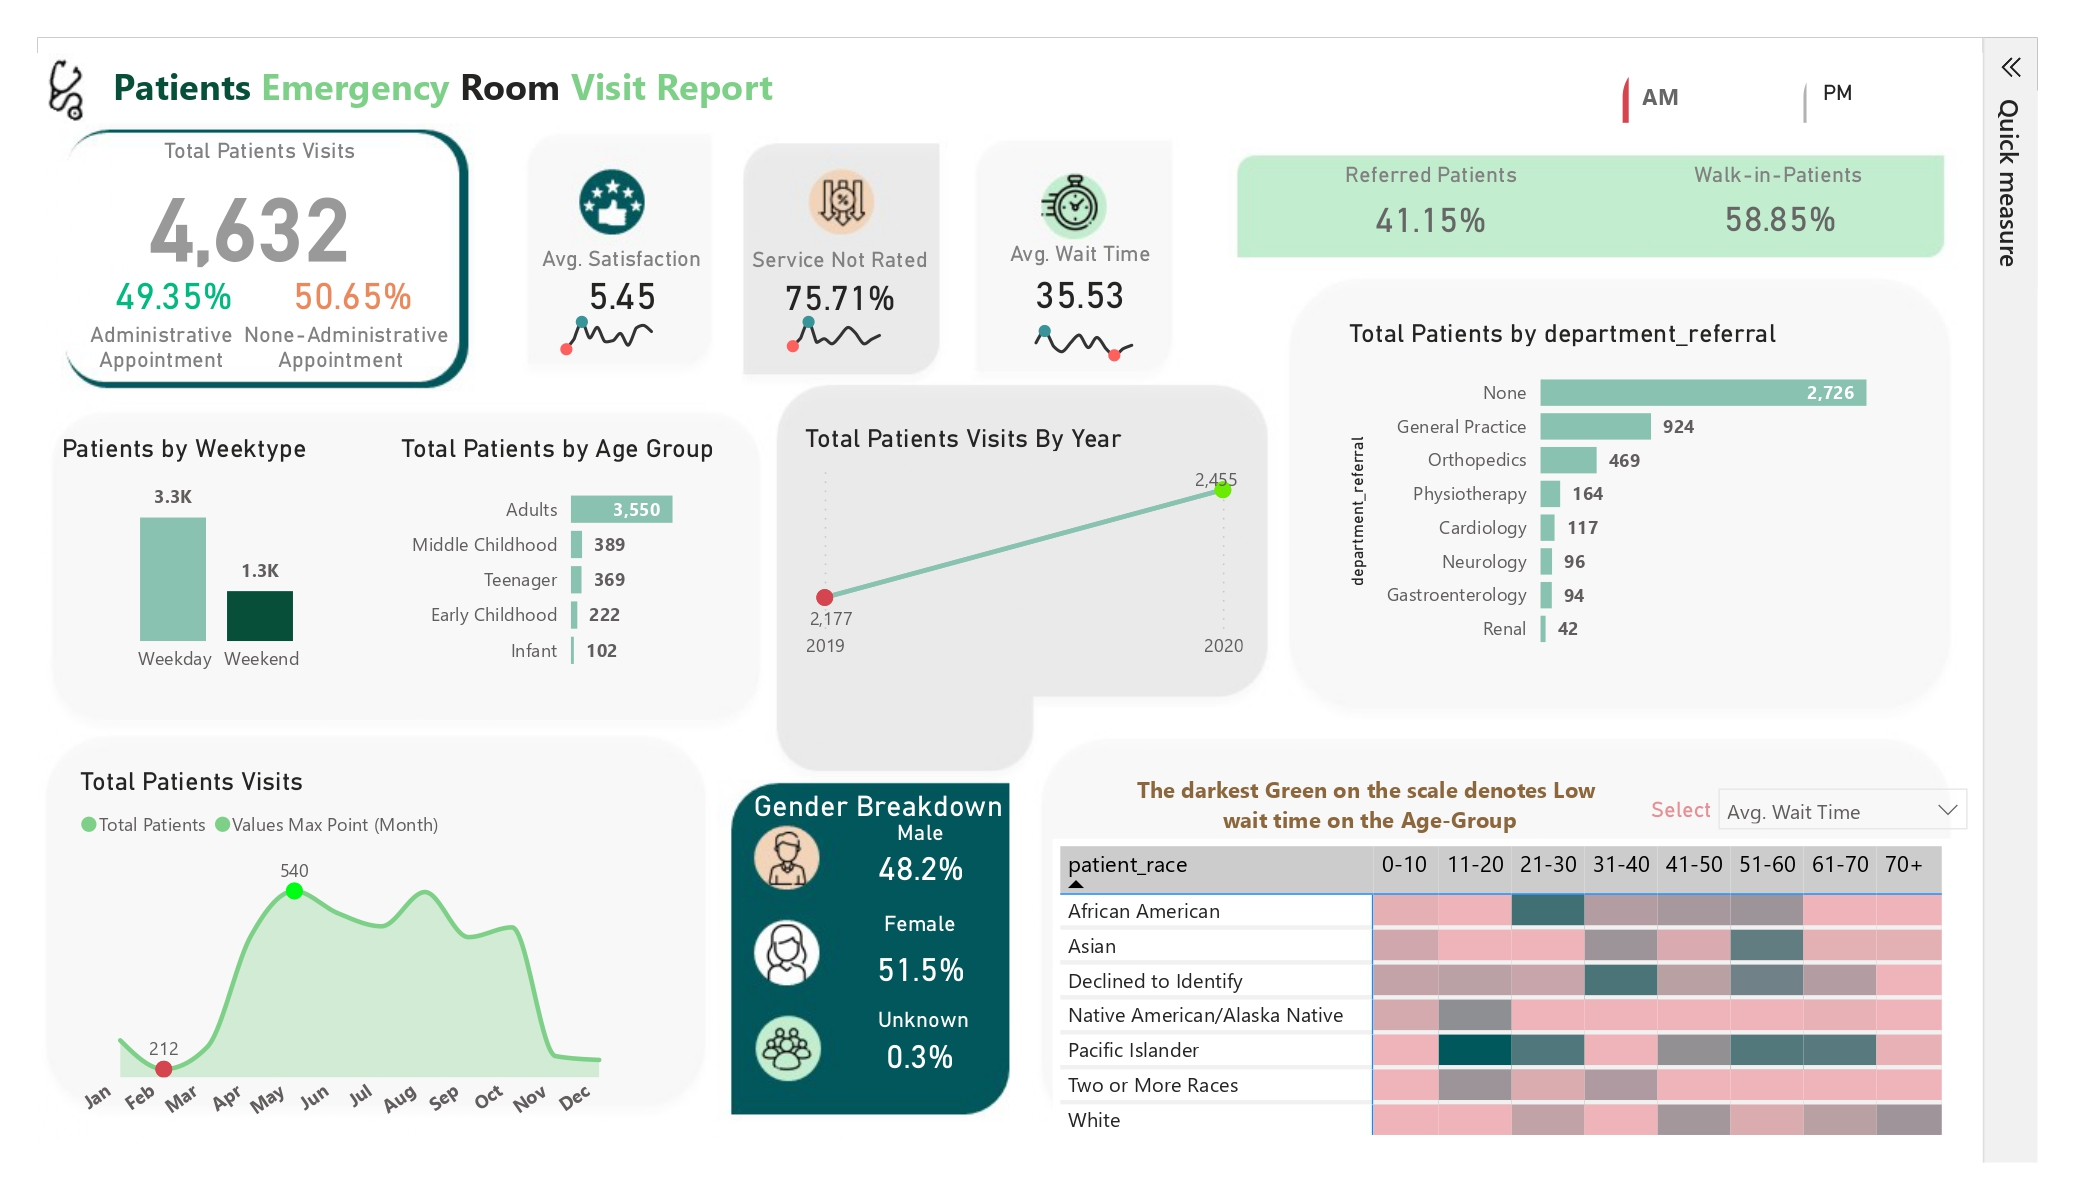

Layout of this report page (visuals, bound fields, positions):
{"tool":"powerbi","page":{"name":"Page 1","canvas":[1280,720],"ordinal":0},"visuals":[{"type":"card","fields":{"Values":["Calculation.Total Patients"]},"box":[44.9,71.5,189.6,74.8],"z":0},{"type":"card","fields":{"Values":["Calculation.% Administrative Schedule"]},"box":[41.4,143.4,96.2,31.8],"z":1000},{"type":"card","fields":{"Values":["Calculation.% None - Administrative Schedule"]},"box":[156.3,143,101.4,31.6],"z":2000},{"type":"pivotTable","fields":{"Values":["Calculation.Average Wait Time"],"Rows":["Patients_Data.patient_race"],"Columns":["Patients_Data.Age Buckets"]},"box":[667.8,517.3,612.7,202.7],"z":3000},{"type":"slicer","fields":{"Values":["Parameter.Parameter"]},"box":[1095.7,474,184.8,43.2],"z":4000},{"type":"clusteredBarChart","fields":{"Category":["Patients_Data.Age Group"],"Y":["Calculation.Total Patients"]},"box":[233.9,250.2,219.4,166.5],"z":5000},{"type":"areaChart","title":"Total Patients Visits","fields":{"Category":["Date.Month"],"Y":["Calculation.Total Patients","Calculation.Values Max Point (Month)"]},"box":[23.3,468.9,362.5,251.1],"z":6000},{"type":"advancedSlicerVisual","fields":{"Values":["Patients_Data.Moment"]},"box":[1037.5,0,243,50.7],"z":7000},{"type":"lineChart","title":"Total Patients Visits By Year","fields":{"Category":["Date.Year"],"Y":["Calculation.Total Patients","Calculation.Values Max Point (Year)"]},"box":[500.5,242.5,297.4,165.5],"z":8000},{"type":"clusteredBarChart","fields":{"Y":["Calculation.Total Patients"],"Category":["Patients_Data.department_referral"]},"box":[858.5,174.2,386.9,228.1],"z":9000},{"type":"card","fields":{"Values":["Calculation.% Referred Patients"]},"box":[858.5,92.4,117.4,34.6],"z":10000},{"type":"card","fields":{"Values":["Calculation.% Un Referred Patients"]},"box":[1080.8,88.5,130.9,39.5],"z":11000},{"type":"card","fields":{"Values":["Calculation.Hitmap Caption"]},"box":[700.6,460.6,351.8,67.1],"z":12000},{"type":"textbox","box":[23.3,171.3,116.4,44.9],"z":13000},{"type":"textbox","box":[118.1,171.3,172.9,44.9],"z":14000},{"type":"card","title":"Avg. Satisfaction","fields":{"Values":["Calculation.Average Satisfaction Score"]},"box":[317.6,127,133.8,47.2],"z":15000},{"type":"card","title":"Avg. Wait Time","fields":{"Values":["Calculation.Average Wait Time"]},"box":[624.6,124.2,122.2,51],"z":16000},{"type":"card","title":"Service Not Rated","fields":{"Values":["Calculation.% No Rating"]},"box":[462.9,128,129.9,47.2],"z":17000},{"type":"textbox","box":[846,66.4,142.4,28.9],"z":18000},{"type":"textbox","box":[1046.1,66.4,199.2,31.8],"z":19000},{"type":"clusteredColumnChart","title":"Patients by Weektype","fields":{"Y":["Calculation.Total Patients"],"Category":["Date.Weektype"]},"box":[10.6,250.2,216.5,166.5],"z":20000},{"type":"card","fields":{"Values":["Calculation.% Female Visit"]},"box":[527.7,515.8,107.3,40.2],"z":21000},{"type":"card","fields":{"Values":["Calculation.% Male Visit"]},"box":[527.7,582.9,105.8,38.8],"z":22000},{"type":"card","fields":{"Values":["Calculation.% Unknown"]},"box":[532.2,645.5,96.9,29.8],"z":23000},{"type":"textbox","box":[23.1,50,245.4,32.7],"z":24000},{"type":"PBI_CV_25997FEB_F466_44FA_B562_AC4063283C4C","fields":{"measure":["Calculation.Average Satisfaction Score"],"axis":["Date.Month"]},"box":[330.1,159.8,96.2,46.2],"z":25000},{"type":"PBI_CV_25997FEB_F466_44FA_B562_AC4063283C4C","fields":{"measure":["Calculation.% No Rating"],"axis":["Date.Month"]},"box":[479.3,159.8,97.2,44.3],"z":26000},{"type":"PBI_CV_25997FEB_F466_44FA_B562_AC4063283C4C","fields":{"measure":["Calculation.Average Wait Time"],"axis":["Date.Month"]},"box":[639,166.5,103,43.3],"z":27000},{"type":"textbox","box":[439,478.9,229.5,33.3],"z":28000},{"type":"textbox","box":[537.1,498.8,88.1,33.3],"z":29000},{"type":"textbox","box":[544.1,559,73,28.3],"z":29001},{"type":"textbox","box":[536.6,621.6,92.4,38.8],"z":29002},{"type":"textbox","box":[1037.5,484.5,88,32.8],"z":29003},{"type":"textbox","box":[44.7,0,800.5,50.7],"z":29005}]}

Visuals, with their boxes on the page's 1280x720 design canvas (x1, y1, x2, y2). These are canvas units, not pixel positions in the 2075x1200 screenshot, which may show the page scaled, cropped or inside an application window:
card - Calculation.Total Patients: rect(45, 72, 234, 146)
card - Calculation.% Administrative Schedule: rect(41, 143, 138, 175)
card - Calculation.% None - Administrative Schedule: rect(156, 143, 258, 175)
pivotTable - Calculation.Average Wait Time x Patients_Data.patient_race: rect(668, 517, 1280, 720)
slicer - Parameter.Parameter: rect(1096, 474, 1280, 517)
clusteredBarChart - Patients_Data.Age Group x Calculation.Total Patients: rect(234, 250, 453, 417)
"Total Patients Visits" areaChart: rect(23, 469, 386, 720)
advancedSlicerVisual - Patients_Data.Moment: rect(1038, 0, 1280, 51)
"Total Patients Visits By Year" lineChart: rect(500, 242, 798, 408)
clusteredBarChart - Calculation.Total Patients x Patients_Data.department_referral: rect(858, 174, 1245, 402)
card - Calculation.% Referred Patients: rect(858, 92, 976, 127)
card - Calculation.% Un Referred Patients: rect(1081, 88, 1212, 128)
card - Calculation.Hitmap Caption: rect(701, 461, 1052, 528)
textbox: rect(23, 171, 140, 216)
textbox: rect(118, 171, 291, 216)
"Avg. Satisfaction" card: rect(318, 127, 451, 174)
"Avg. Wait Time" card: rect(625, 124, 747, 175)
"Service Not Rated" card: rect(463, 128, 593, 175)
textbox: rect(846, 66, 988, 95)
textbox: rect(1046, 66, 1245, 98)
"Patients by Weektype" clusteredColumnChart: rect(11, 250, 227, 417)
card - Calculation.% Female Visit: rect(528, 516, 635, 556)
card - Calculation.% Male Visit: rect(528, 583, 634, 622)
card - Calculation.% Unknown: rect(532, 646, 629, 675)
textbox: rect(23, 50, 268, 83)
PBI_CV_25997FEB_F466_44FA_B562_AC4063283C4C - Calculation.Average Satisfaction Score x Date.Month: rect(330, 160, 426, 206)
PBI_CV_25997FEB_F466_44FA_B562_AC4063283C4C - Calculation.% No Rating x Date.Month: rect(479, 160, 576, 204)
PBI_CV_25997FEB_F466_44FA_B562_AC4063283C4C - Calculation.Average Wait Time x Date.Month: rect(639, 166, 742, 210)
textbox: rect(439, 479, 668, 512)
textbox: rect(537, 499, 625, 532)
textbox: rect(544, 559, 617, 587)
textbox: rect(537, 622, 629, 660)
textbox: rect(1038, 484, 1126, 517)
textbox: rect(45, 0, 845, 51)
